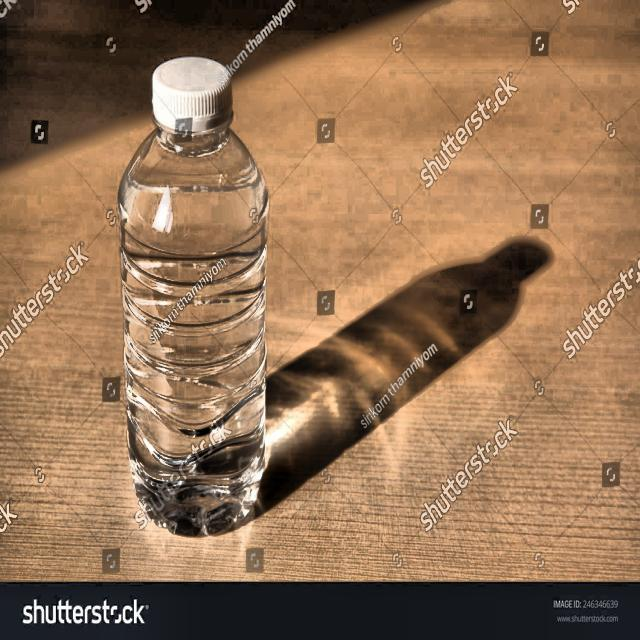Bottles: (115, 52, 270, 544)
